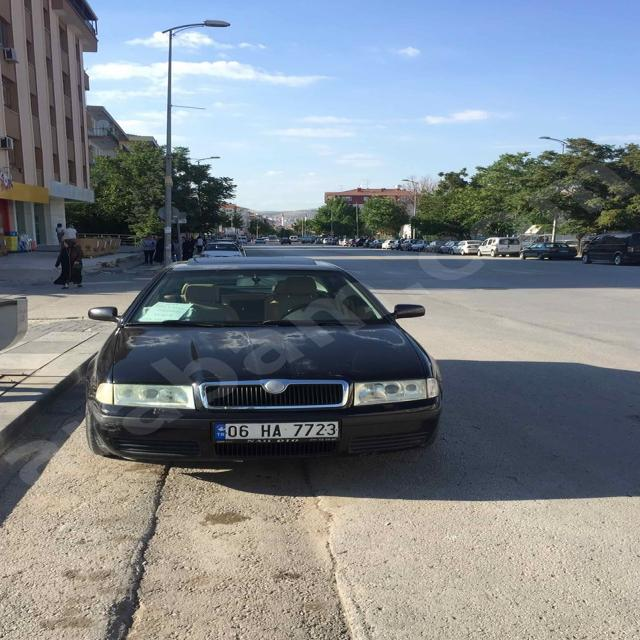license_plate: (212, 422, 338, 439)
